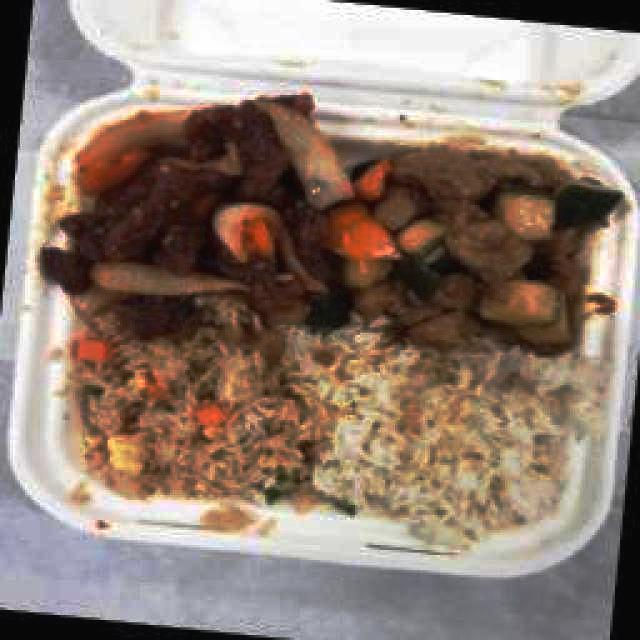Beijing Beef: (111, 118, 310, 302)
Fried Rice: (96, 306, 296, 486)
Kung Pao Chicken: (356, 148, 592, 336)
rice: (339, 338, 554, 531)
